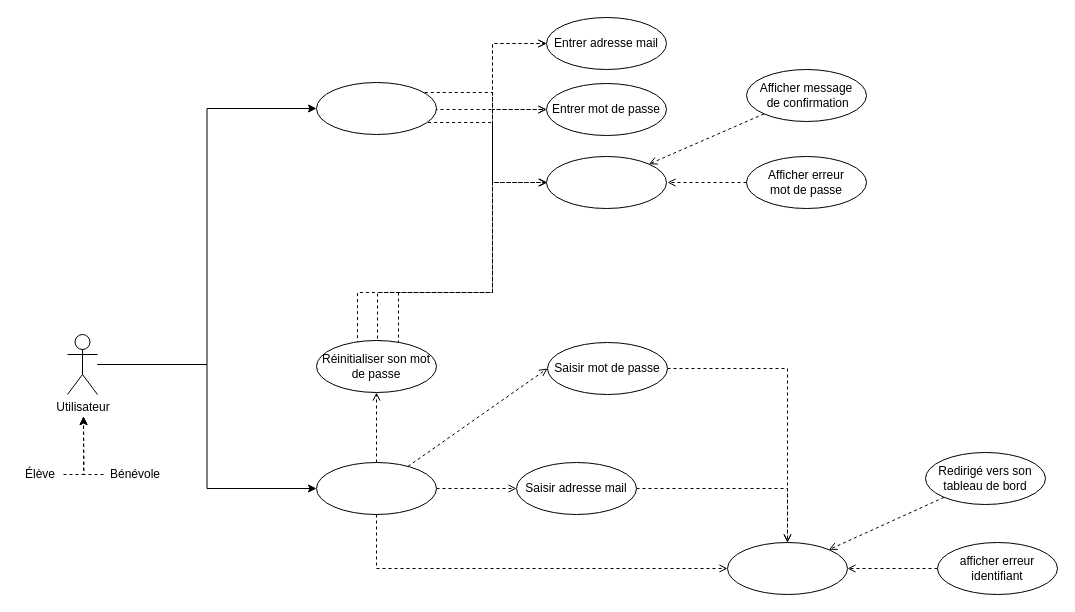
Image size: 1075x612. Some labels were removed from this diagram. Each missing label, with the box of its shape:
Confirmer le mot de passe: (546, 156, 666, 208)
Connexion: (316, 462, 436, 514)
Inscription: (316, 82, 436, 134)
Se connecter: (726, 542, 848, 594)
